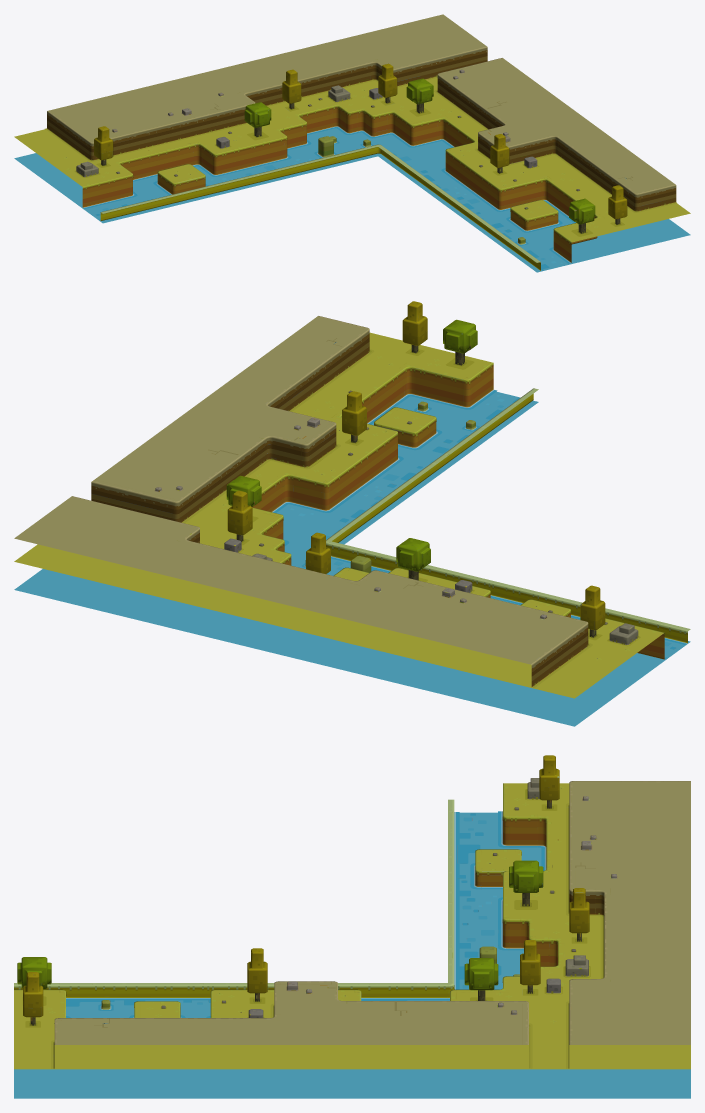
The model's file is C_water2_out_LD.fbx.
3 views of the same model, one above another, from view 1: azimuth 30°, elevation 25°; view 2: azimuth 150°, elevation 25°; view 3: azimuth 270°, elevation 25° (orthographic). The views are drawn at different scales.
Parts seen in each view (by area): view 1: C_water2_out_LD; view 2: C_water2_out_LD; view 3: C_water2_out_LD.
Boxes of the visible parts, left/top/right/bottom form: C_water2_out_LD: left=14, top=14, right=690, bottom=272; C_water2_out_LD: left=14, top=301, right=690, bottom=726; C_water2_out_LD: left=14, top=755, right=690, bottom=1098.
Bounding box in the file's own units: 117 × 15.34 × 117.
Materials: 1 (1 with a texture image).
